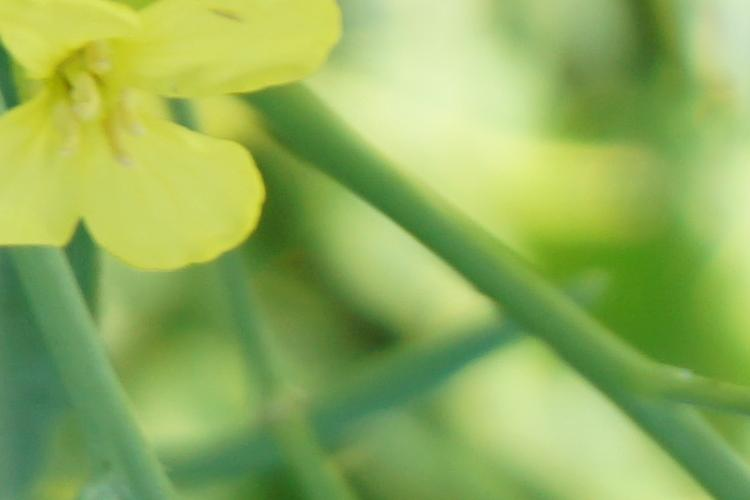yellow: (1, 1, 354, 283)
